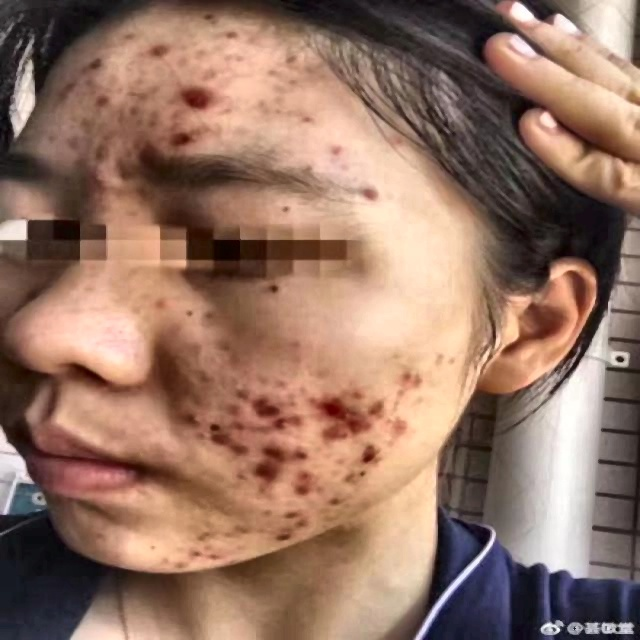papule: (345, 169, 404, 220), (180, 538, 238, 572), (320, 134, 371, 171), (176, 68, 215, 116), (282, 466, 329, 502), (193, 427, 246, 456), (321, 390, 358, 428), (151, 30, 189, 64), (172, 117, 208, 144), (256, 386, 291, 413), (278, 508, 316, 532), (222, 402, 259, 426), (260, 412, 294, 436), (252, 460, 288, 482), (148, 291, 179, 313), (178, 412, 202, 440), (268, 524, 295, 548), (258, 444, 285, 461), (396, 421, 414, 445), (357, 449, 382, 466), (377, 392, 391, 422)
